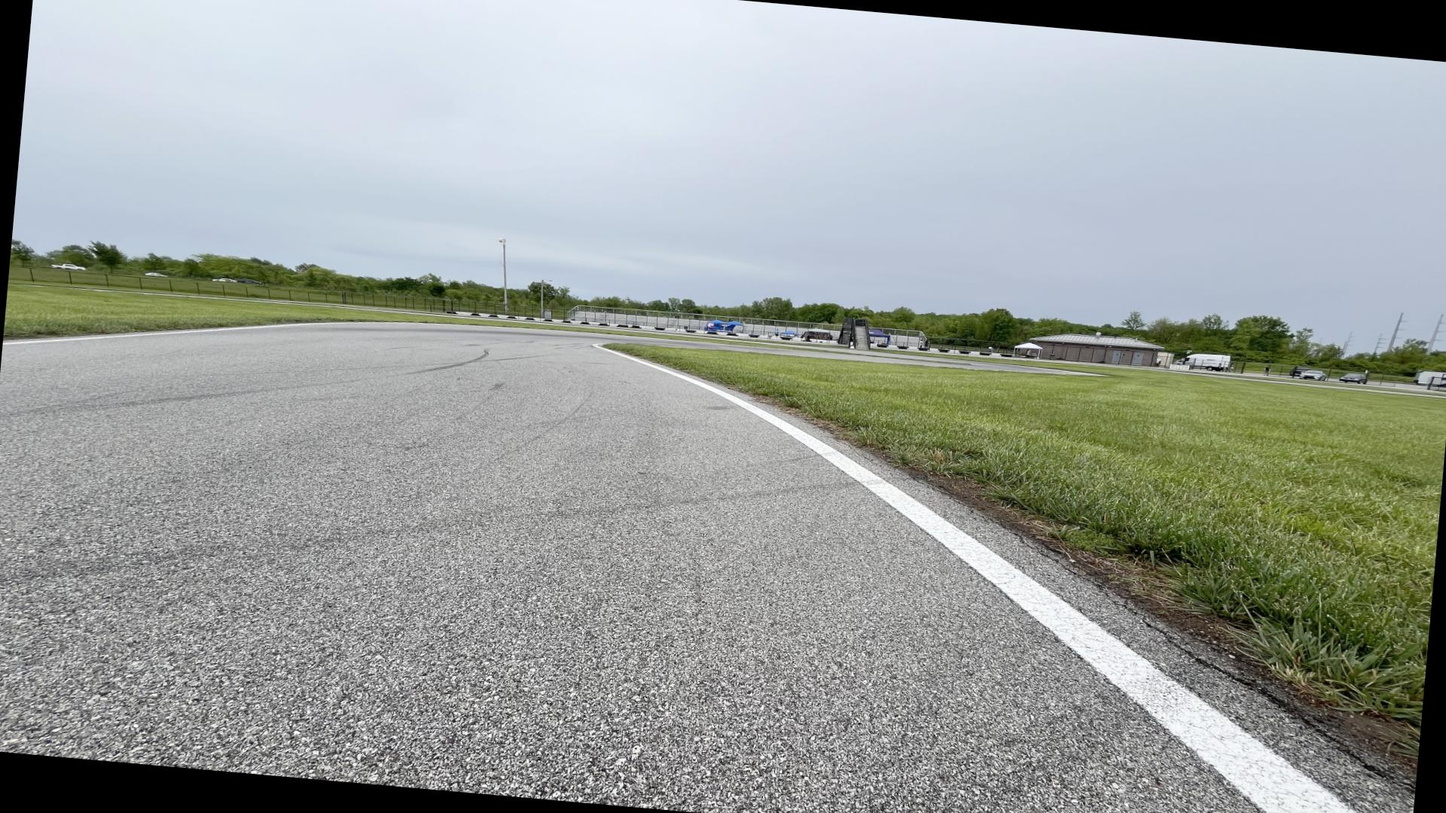white-line: (590, 343, 1356, 812)
